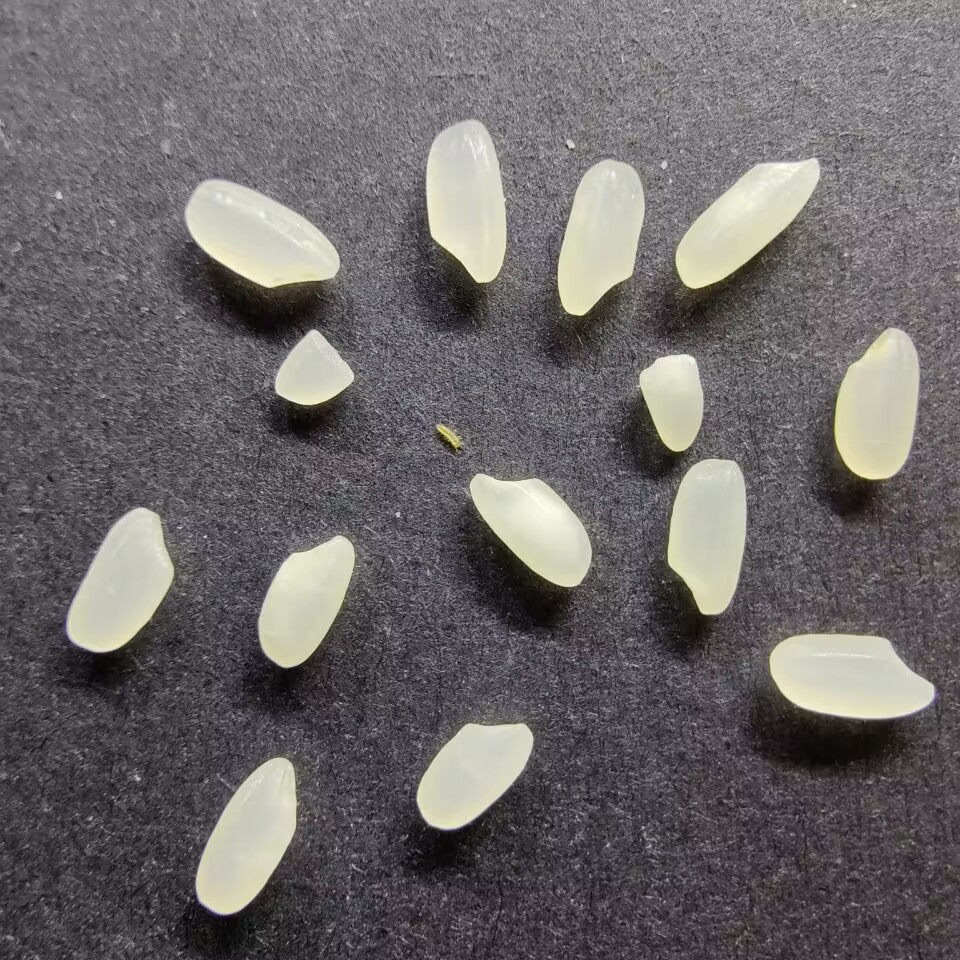broken: (637, 352, 706, 453), (271, 326, 355, 407)
others: (433, 418, 467, 458)
rice: (673, 155, 822, 292), (185, 176, 341, 289), (193, 754, 299, 916), (64, 506, 175, 654), (768, 632, 937, 722), (467, 472, 593, 590), (421, 118, 509, 284), (555, 157, 645, 317), (413, 718, 535, 831), (833, 325, 920, 482), (256, 533, 354, 668), (665, 457, 748, 616)
